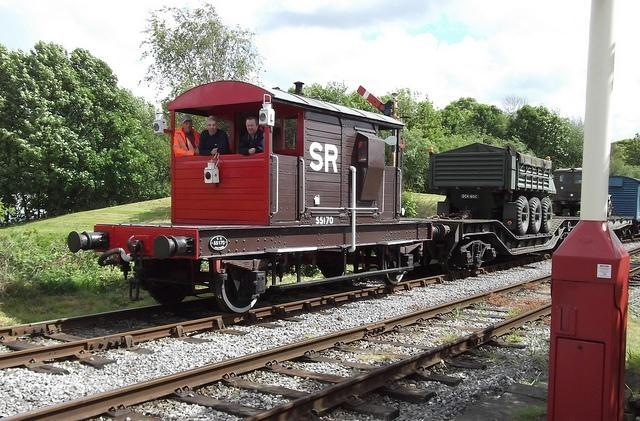truck: (428, 141, 558, 232)
